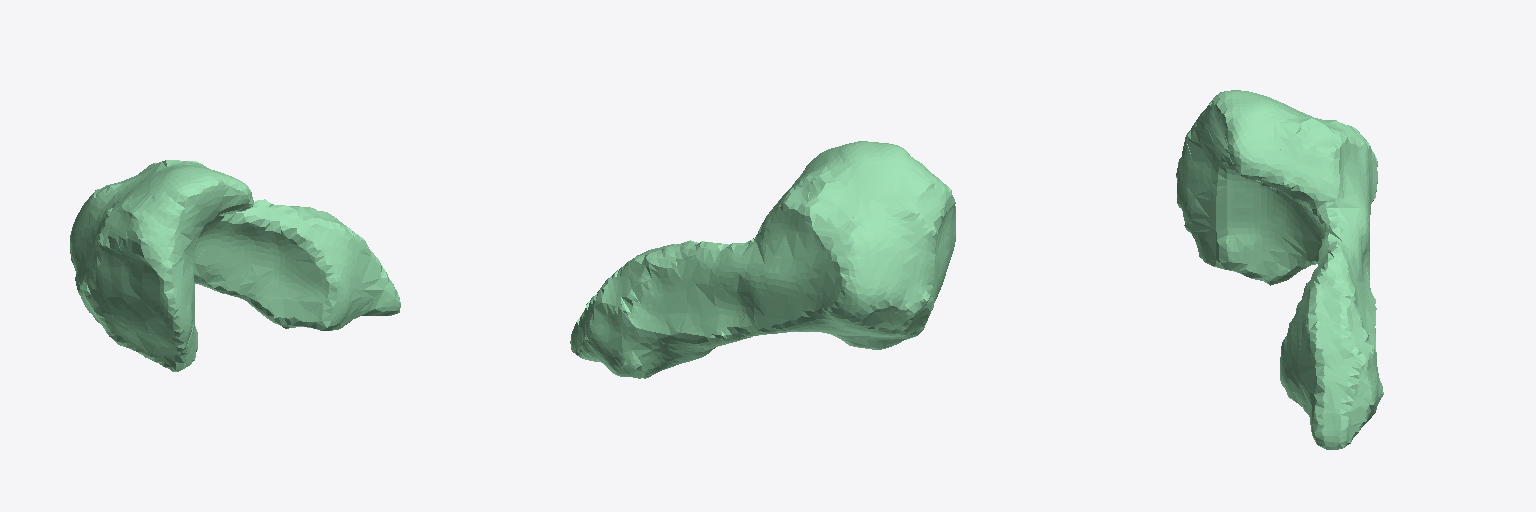
Rendered from Model_229_RH__Accumbens_nucleus_shell_(AcbSh).obj.
The picture shows the model from 3 angles: view 1: azimuth 30°, elevation 25°; view 2: azimuth 150°, elevation 25°; view 3: azimuth 270°, elevation 25°; orthographic projection.
Bounding box in the file's own units: 5.18 × 3.41 × 2.78.